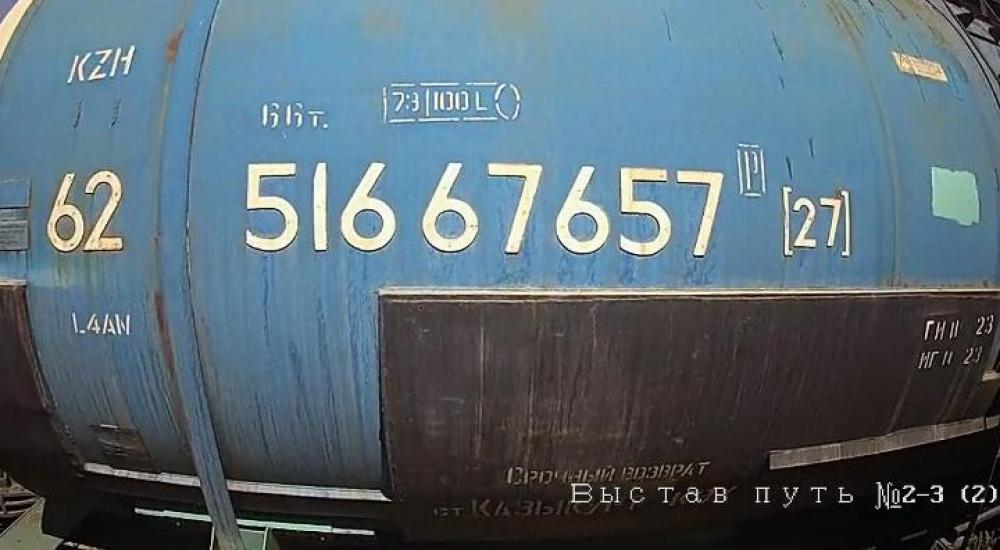Wagon-number: (235, 153, 730, 266)
